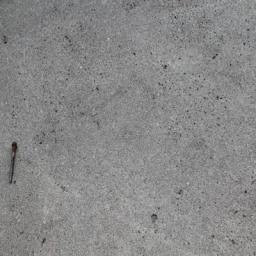FOD: (6, 140, 24, 188)
